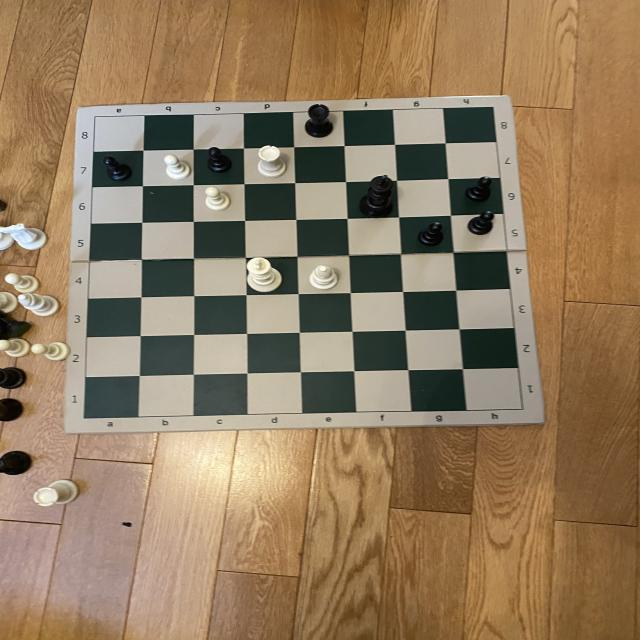Chessboard-Corners: (78, 414, 92, 424), (485, 103, 499, 112), (88, 113, 101, 121), (520, 405, 526, 413)
